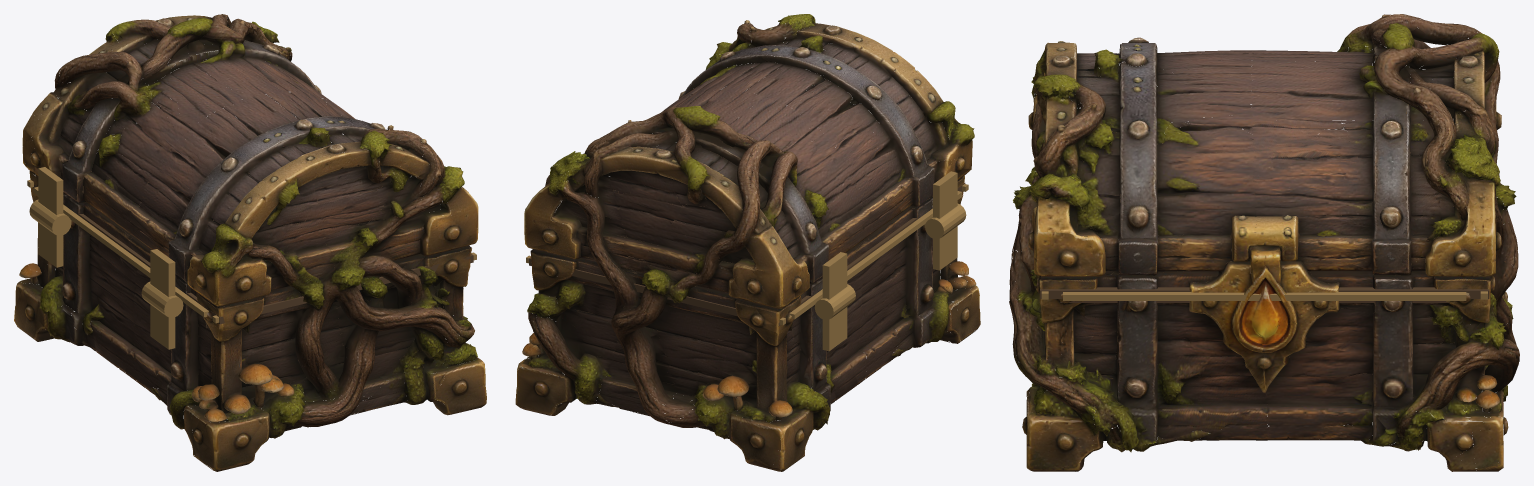
Rendered from gnome_chest_hinged.glb.
3 views of the same model, side by side, from view 1: azimuth 30°, elevation 25°; view 2: azimuth 150°, elevation 25°; view 3: azimuth 270°, elevation 25° (orthographic). The views are drawn at different scales.
Parts seen in each view (by area): view 1: ChestLid, ChestBody, Rim_Back, LidUnderside, BackHinge_LidLeaf_0, BackHinge_LidLeaf_1, BackHinge_BodyLeaf_1, BackHinge_BodyLeaf_0, BackHinge_Barrel_0, BackHinge_Barrel_1; view 2: ChestLid, ChestBody, LidUnderside, Rim_Back, BackHinge_LidLeaf_1, BackHinge_LidLeaf_0, BackHinge_BodyLeaf_1, BackHinge_Barrel_0, BackHinge_BodyLeaf_0, BackHinge_Barrel_1; view 3: ChestLid, ChestBody, Rim_Front, LidUnderside.
Part boxes in pixels (<box>): ChestLid: <box>22,14,478,321</box>; ChestBody: <box>14,187,486,471</box>; Rim_Back: <box>33,187,208,317</box>; LidUnderside: <box>33,140,473,324</box>; BackHinge_LidLeaf_0: <box>150,249,175,297</box>; BackHinge_LidLeaf_1: <box>38,167,63,215</box>; BackHinge_BodyLeaf_1: <box>38,222,63,267</box>; BackHinge_BodyLeaf_0: <box>150,304,175,349</box>; BackHinge_Barrel_0: <box>141,281,183,317</box>; BackHinge_Barrel_1: <box>29,199,71,235</box>; ChestLid: <box>524,14,974,325</box>; ChestBody: <box>515,191,980,471</box>; LidUnderside: <box>529,140,965,326</box>; Rim_Back: <box>789,191,961,319</box>; BackHinge_LidLeaf_1: <box>822,252,847,299</box>; BackHinge_LidLeaf_0: <box>933,171,957,218</box>; BackHinge_BodyLeaf_1: <box>822,307,847,351</box>; BackHinge_Barrel_0: <box>925,203,966,239</box>; BackHinge_BodyLeaf_0: <box>933,226,957,270</box>; BackHinge_Barrel_1: <box>814,284,855,319</box>; ChestLid: <box>1013,14,1516,302</box>; ChestBody: <box>1009,223,1519,471</box>; Rim_Front: <box>1063,292,1466,300</box>; LidUnderside: <box>1040,144,1489,298</box>.
Size of the model in its own units: 0.8035 by 0.7827 by 1.
Materials: 5 (1 with a texture image).
